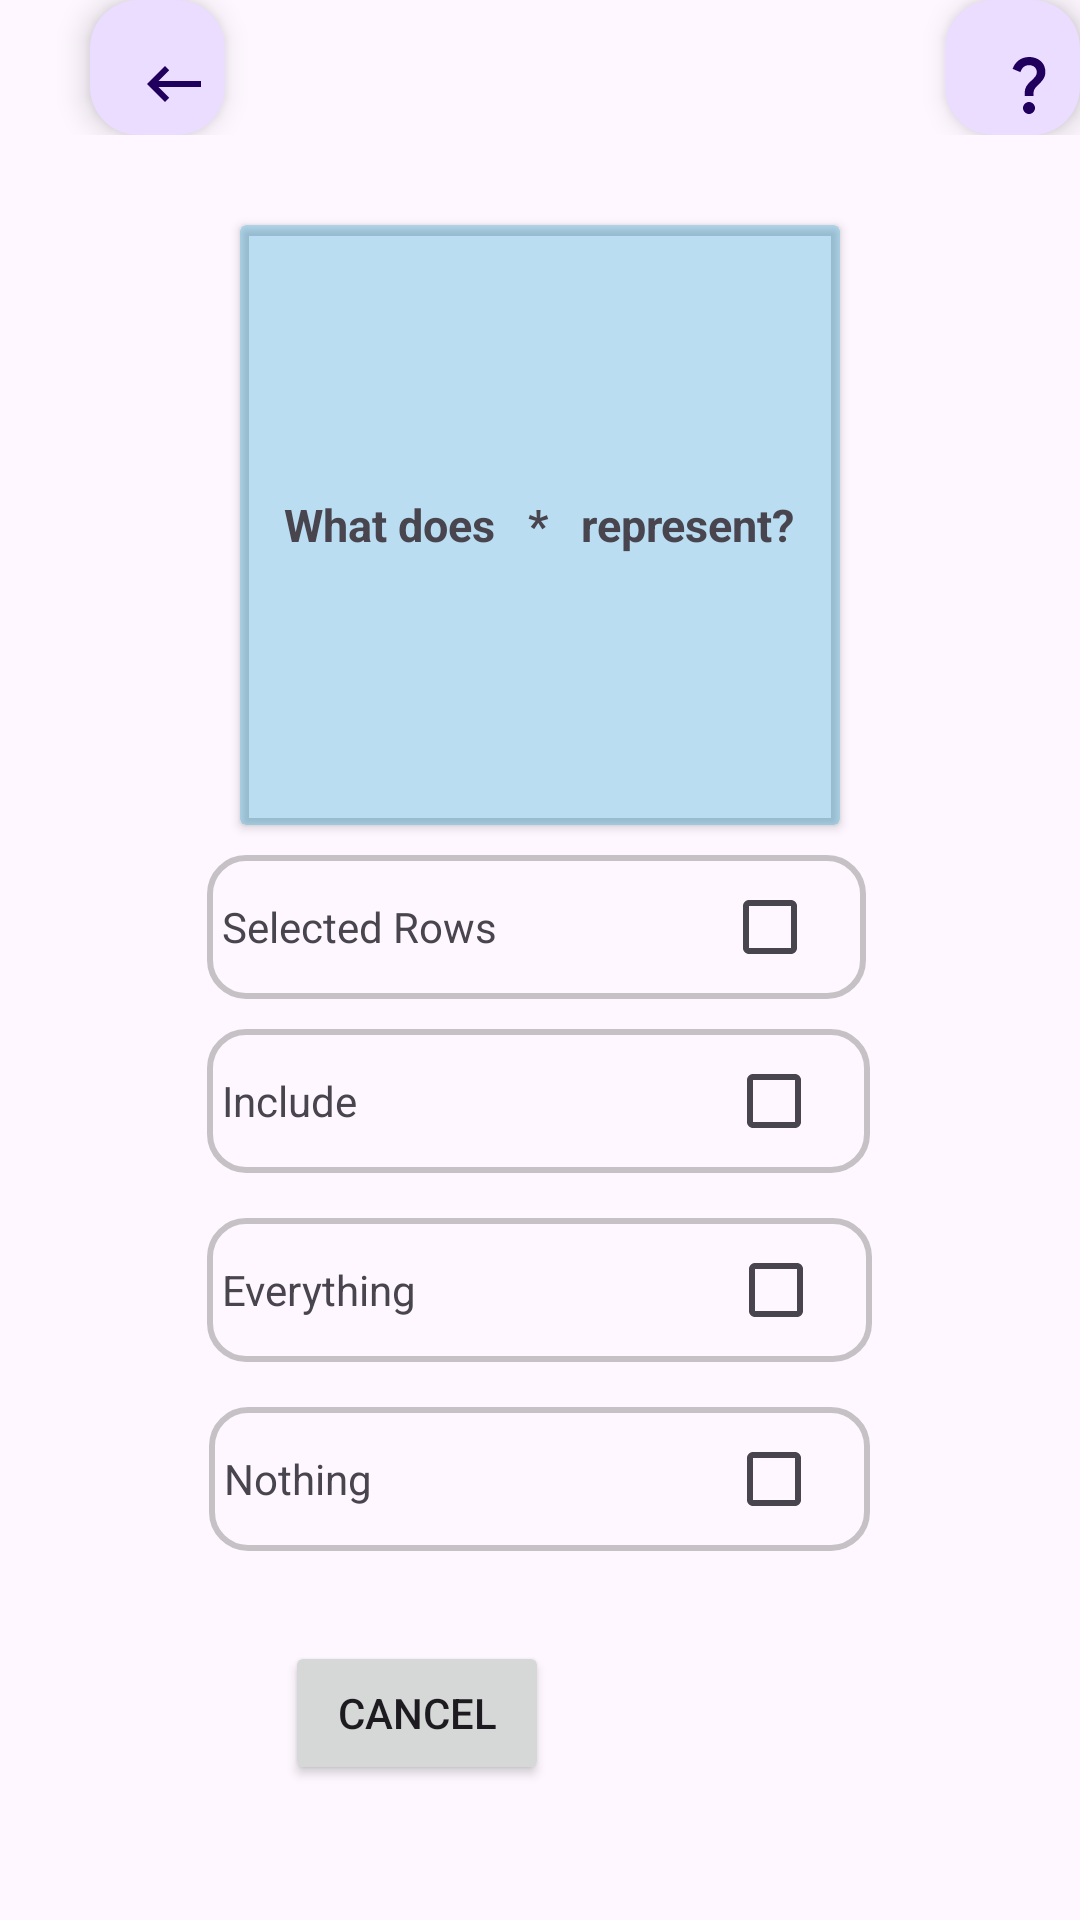

Named icons in this screenshot (1080 × 1920) and their bounding boxes, detection(x1, y1, x2, y2):
keyboard backspace: detection(90, 0, 225, 135)
question mark: detection(945, 0, 1080, 135)
